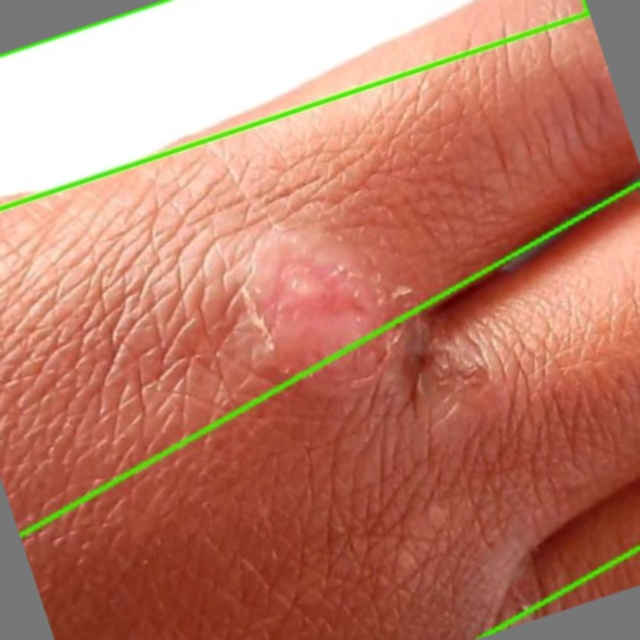Eczema: (0, 182, 639, 639)
